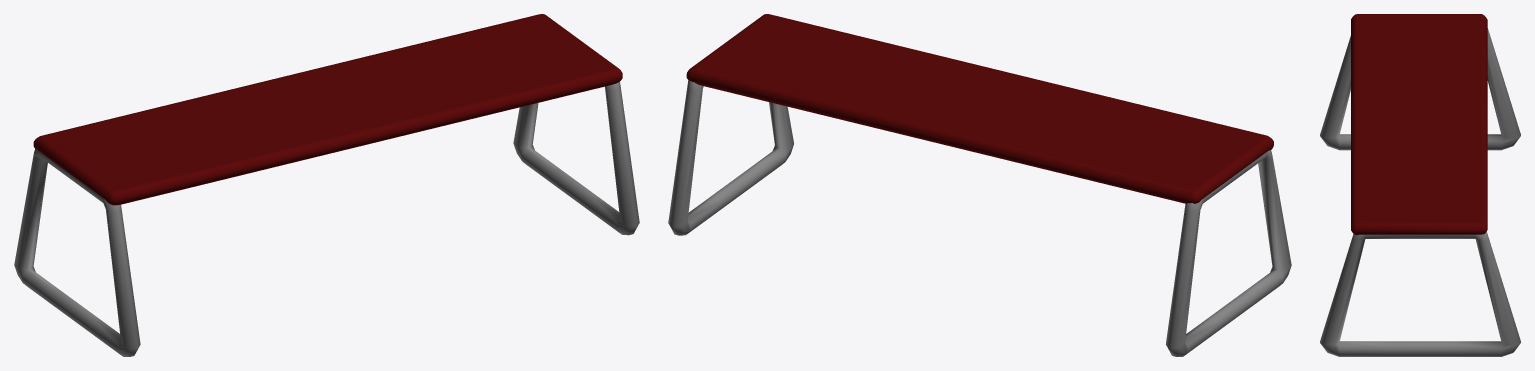
The model's file is Bench.FBX.
3 renders of one model, left to right at view 1: azimuth 30°, elevation 25°; view 2: azimuth 150°, elevation 25°; view 3: azimuth 270°, elevation 25°, orthographic. The views are drawn at different scales.
Visible parts, largest first — view 1: Bench; view 2: Bench; view 3: Bench.
Boxes of the visible parts, box(x1,y1,x2,y2) form: Bench: box(14, 14, 639, 356); Bench: box(668, 14, 1291, 356); Bench: box(1320, 14, 1520, 356).
Size of the model in its own units: 410 by 120 by 163.
